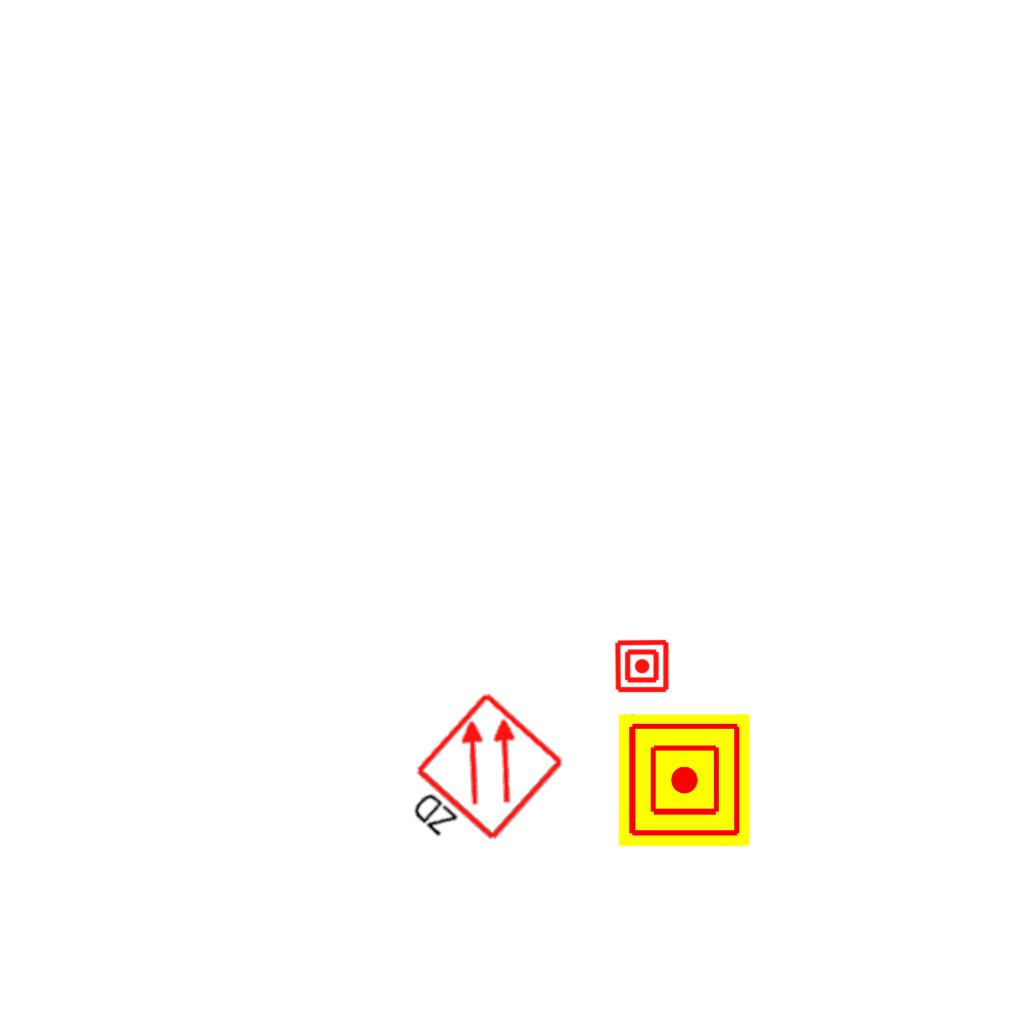NAM-Nichtautomatischer_Melder: (618, 714, 750, 846), (614, 638, 670, 694)
ZD_Melder_in_Zwischendecke_mit_Revisionsoeffnung_mind_40_x_40_cm: (385, 687, 571, 876)
